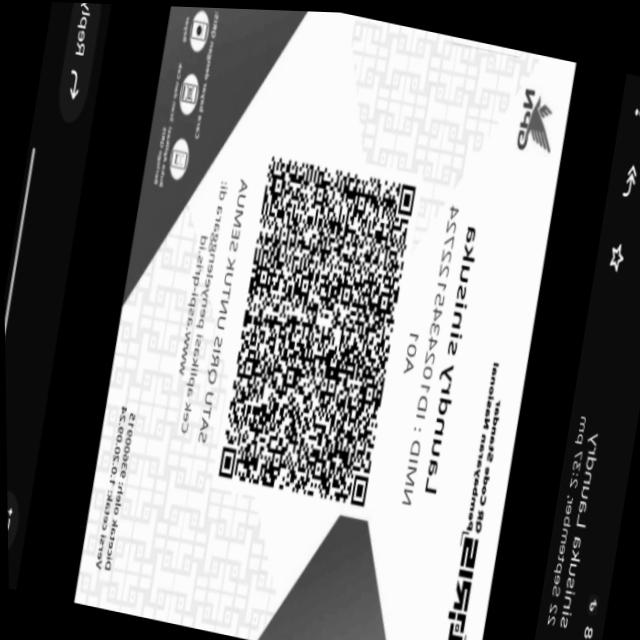acquirer: (101, 399, 139, 578)
nama_merchant: (418, 211, 484, 507)
nmid: (397, 191, 463, 513)
qrcode: (212, 134, 423, 519)
tid: (400, 320, 423, 385)
